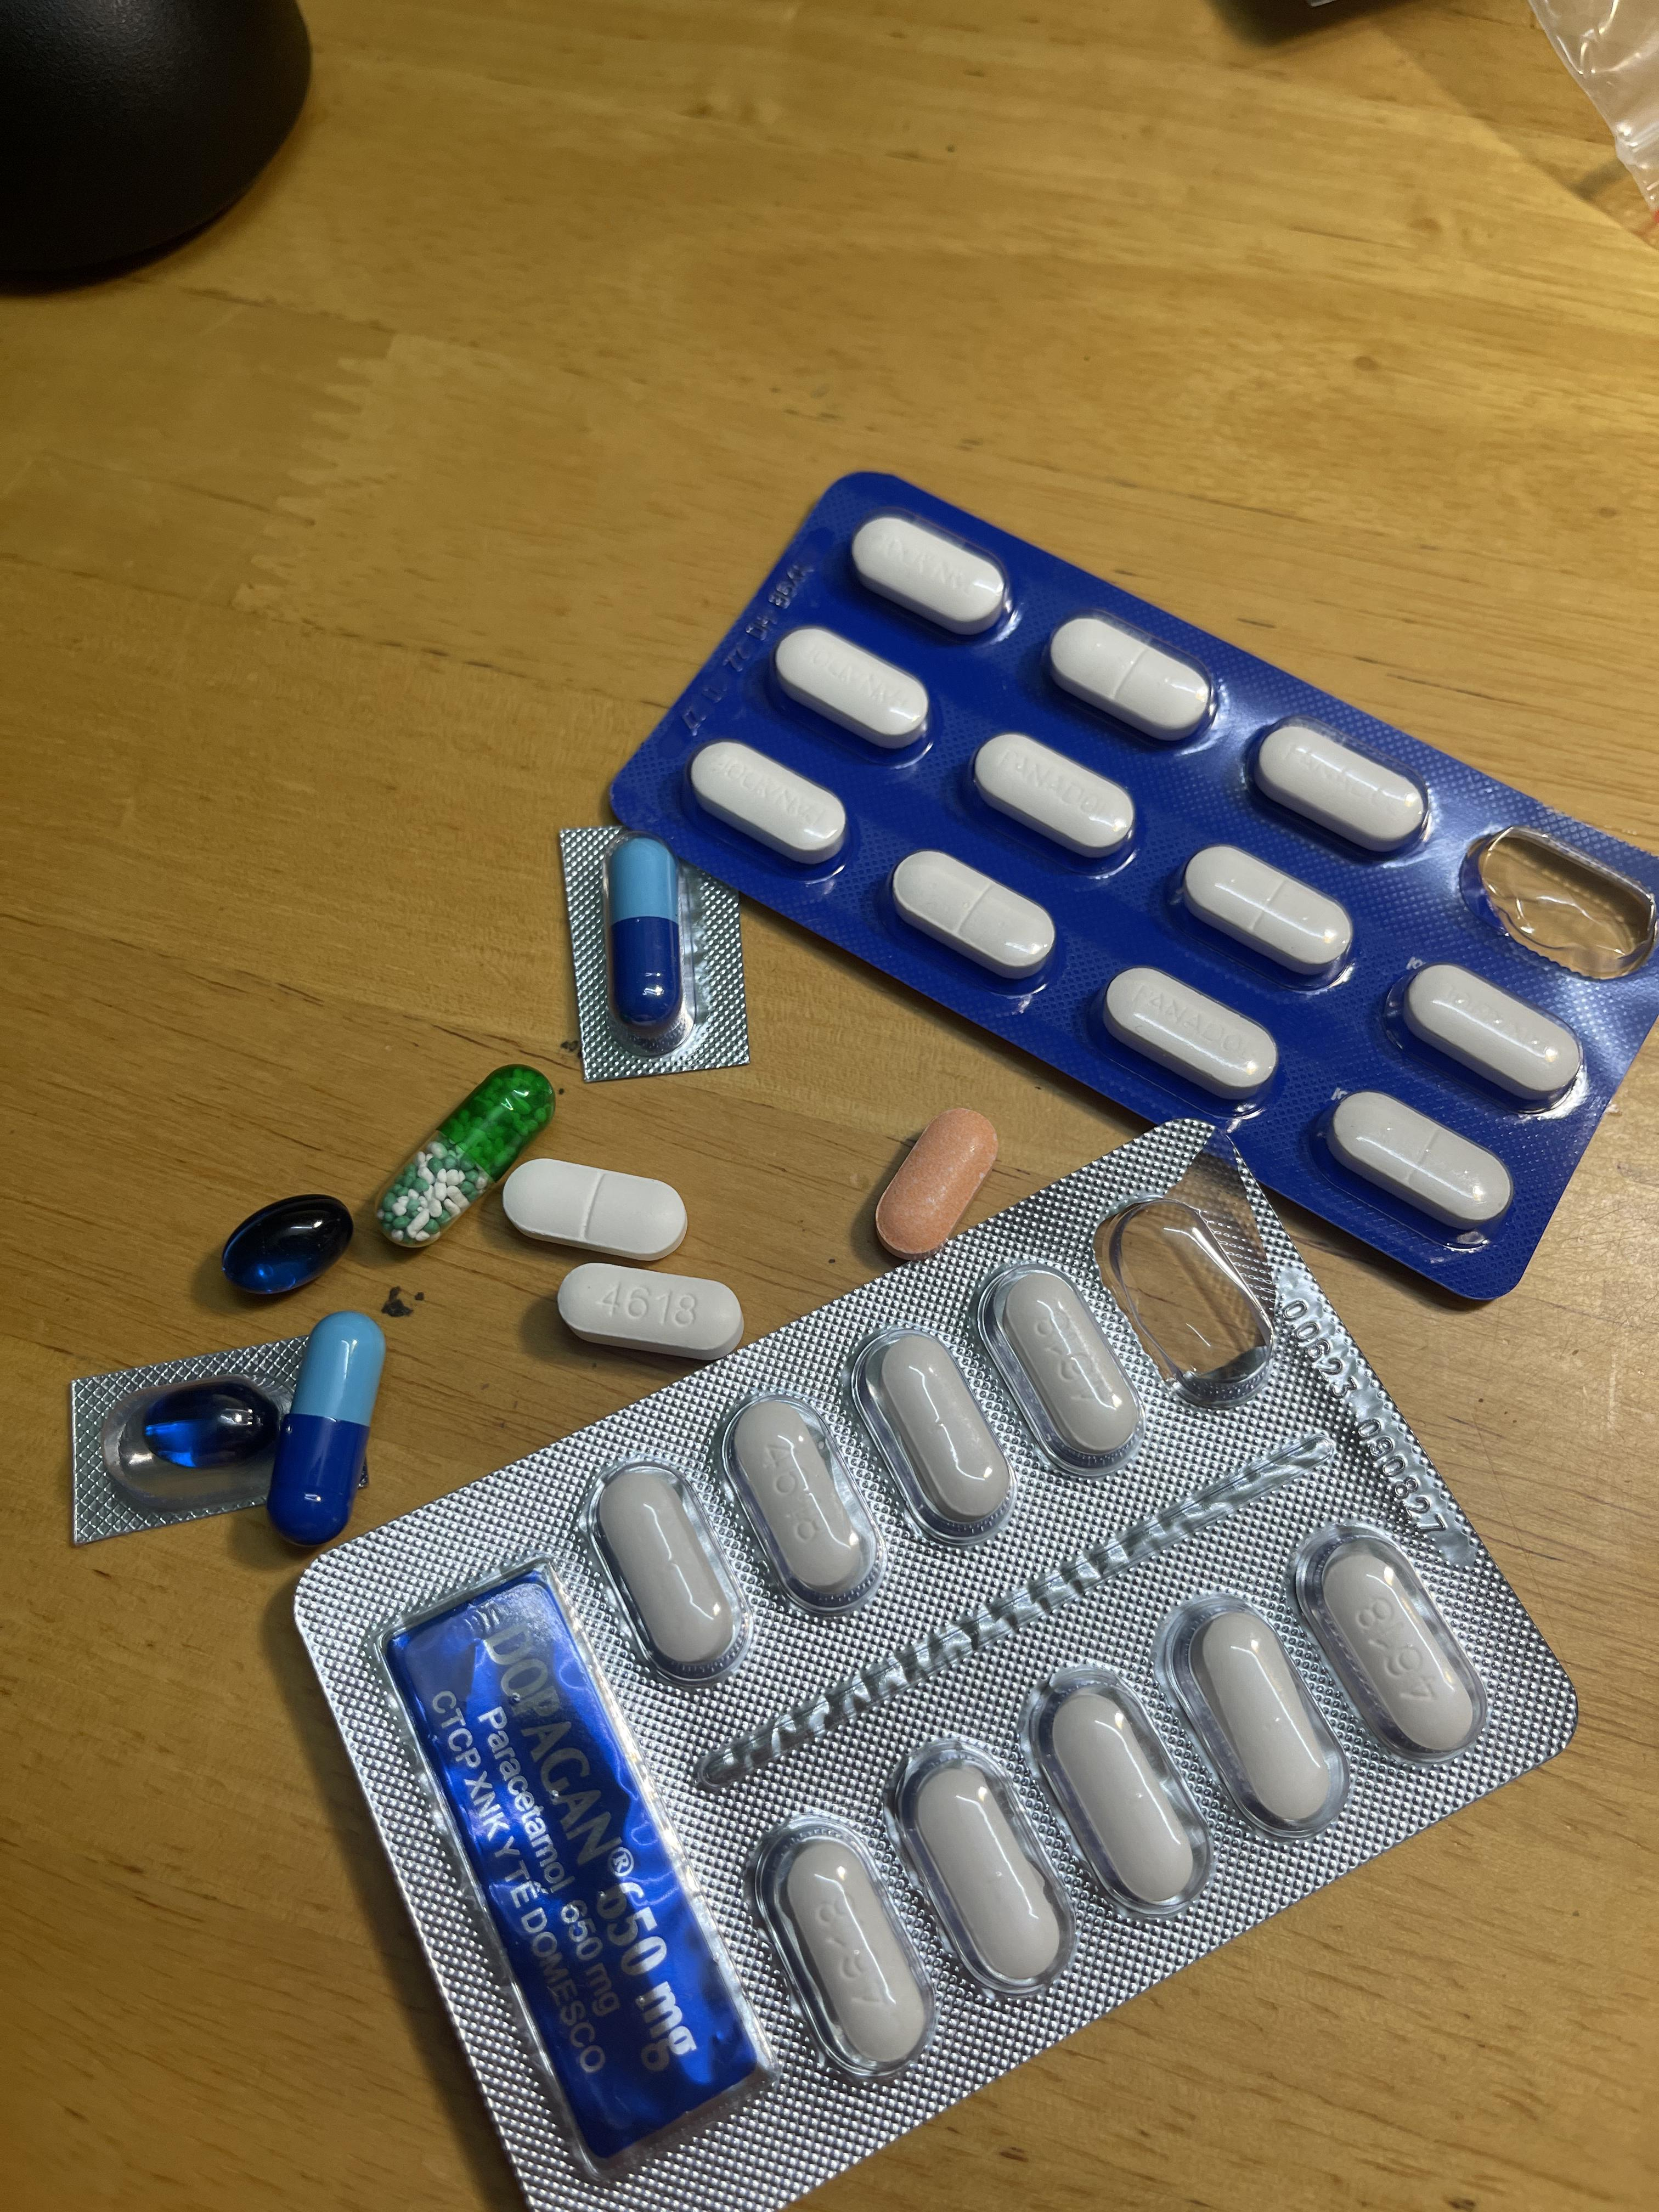Lincomyxin_500mg: (223, 1191, 356, 1294), (138, 1385, 275, 1468)
Loratadine_10mg: (870, 1111, 1004, 1258)
Paracetamol_350mg: (1399, 961, 1588, 1101), (1326, 1087, 1523, 1216), (1253, 718, 1432, 850), (1103, 968, 1274, 1101), (1180, 843, 1349, 974), (890, 848, 1056, 981), (972, 732, 1136, 857), (1049, 613, 1211, 738), (852, 510, 1009, 634), (502, 1157, 687, 1261), (777, 627, 932, 749), (695, 740, 847, 864)
Paracetamol_500mg: (1169, 1597, 1347, 1836), (971, 1271, 1147, 1480), (850, 1329, 1016, 1548), (725, 1395, 884, 1611), (910, 1768, 1061, 1984), (1053, 1686, 1197, 1909), (1323, 1548, 1476, 1754), (779, 1839, 917, 2066), (599, 1468, 741, 1676), (558, 1264, 741, 1353)
Paracetamol_650mg: (371, 1068, 552, 1249)
pill: (272, 1317, 383, 1536), (608, 840, 687, 1047)
